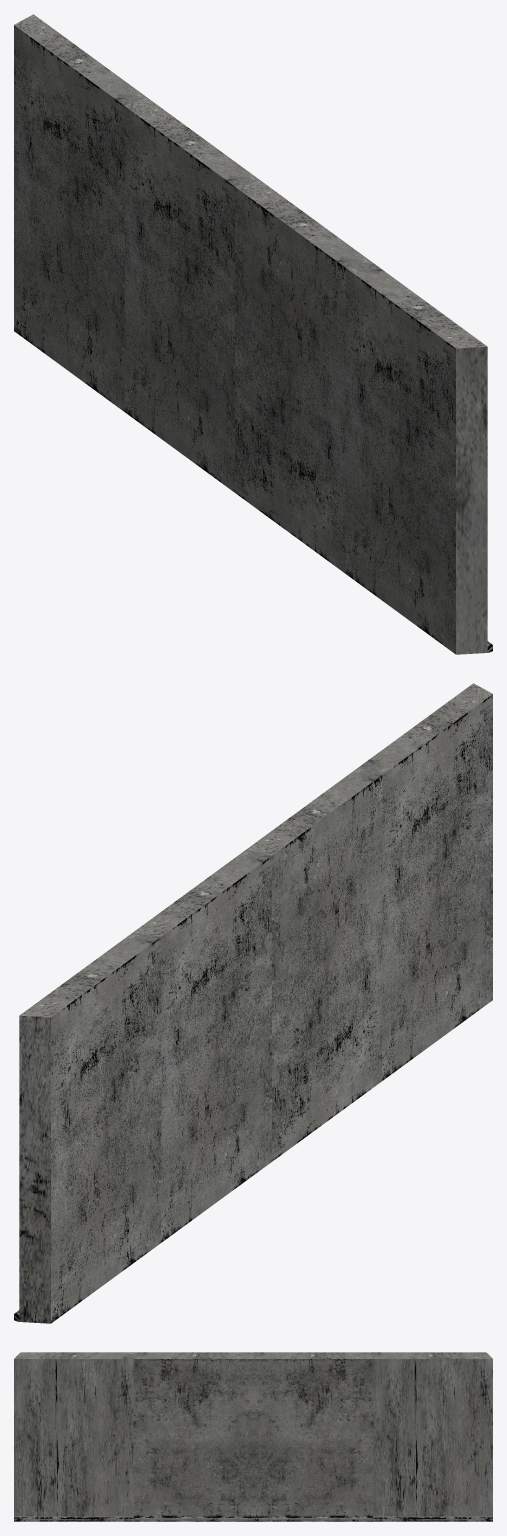
Rendered from Wall03.fbx.
The picture shows the model from 3 angles, top to bottom: view 1: azimuth 30°, elevation 25°; view 2: azimuth 150°, elevation 25°; view 3: azimuth 270°, elevation 25°; orthographic projection. The views are drawn at different scales.
Parts seen in each view (by area): view 1: Wall03; view 2: Wall03; view 3: Wall03.
Boxes of the visible parts, x1,y1,x2,y2 form: Wall03: (14,14,492,654); Wall03: (14,683,492,1323); Wall03: (14,1352,492,1521).
Bounding box in the file's own units: 42.42 × 400 × 1075.
1 material, 1 textured.
